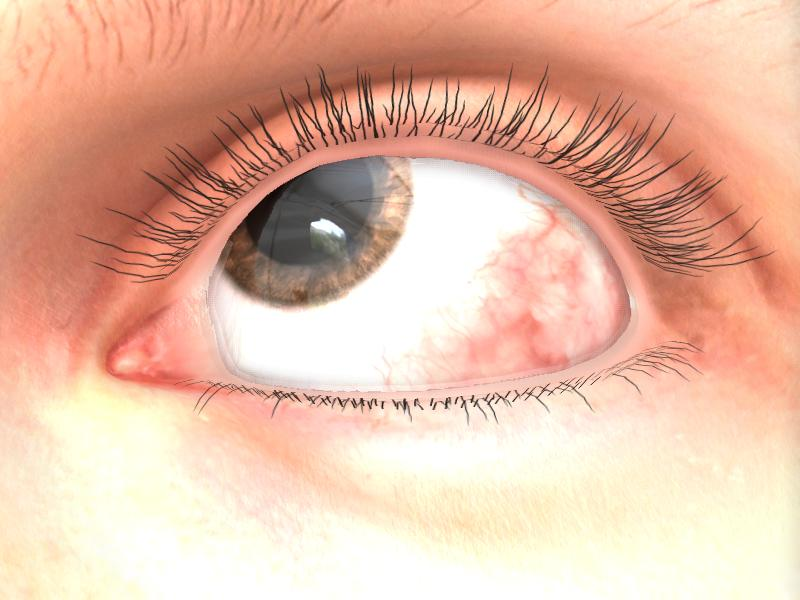eye: (220, 158, 417, 312)
